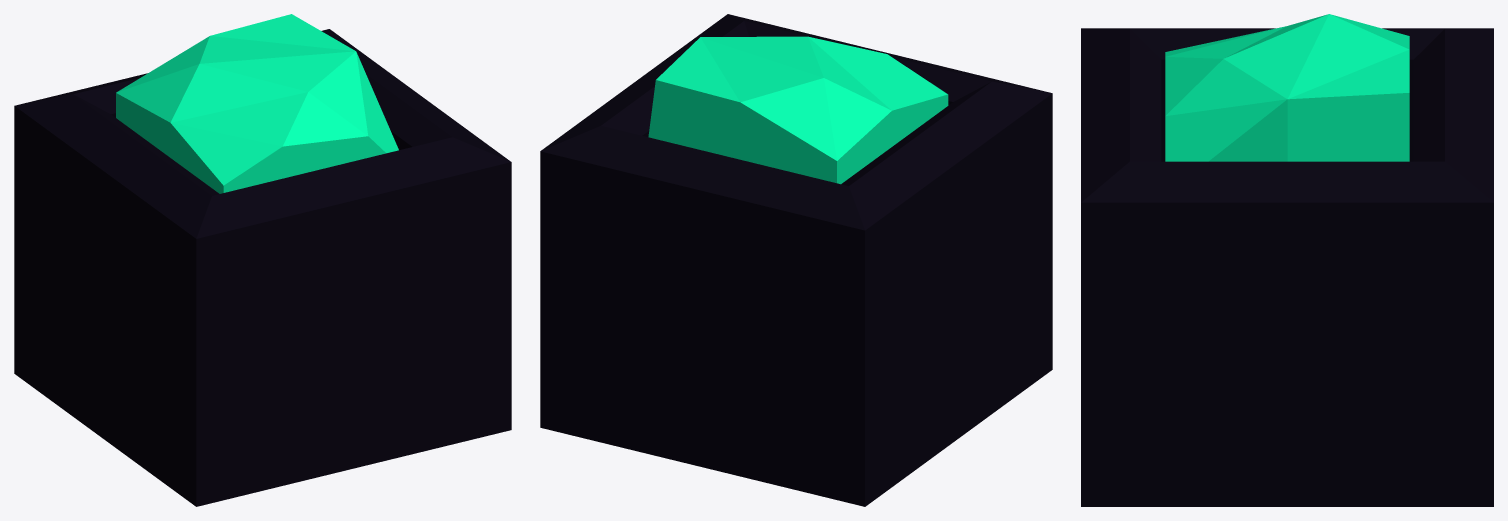
Rendered from glowy_box_9.gltf.
3 renders of one model, left to right at view 1: azimuth 30°, elevation 25°; view 2: azimuth 150°, elevation 25°; view 3: azimuth 270°, elevation 25°, orthographic. The views are drawn at different scales.
Visible parts, largest first — view 1: Cube; view 2: Cube; view 3: Cube.
Boxes of the visible parts, <box> form: Cube: <box>14,14,511,506</box>; Cube: <box>540,14,1052,506</box>; Cube: <box>1081,14,1493,506</box>.
Bounding box in the file's own units: 1 × 1.02 × 1.
